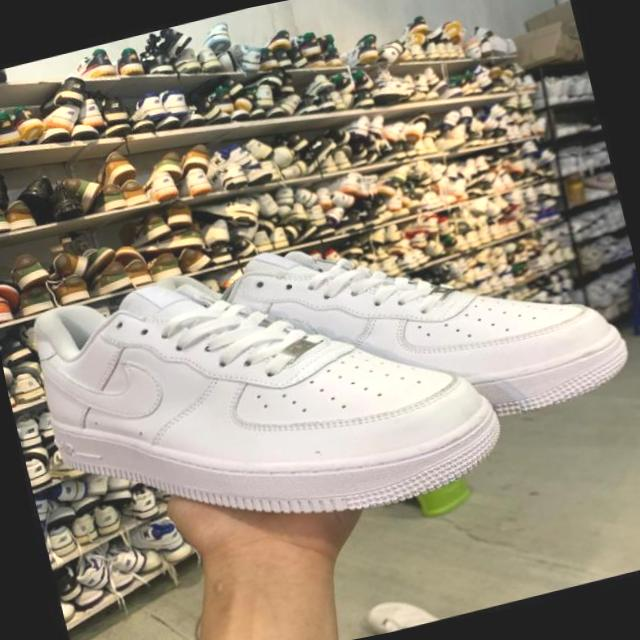nike_fake_airforce: (6, 205, 525, 590), (155, 166, 640, 494)
